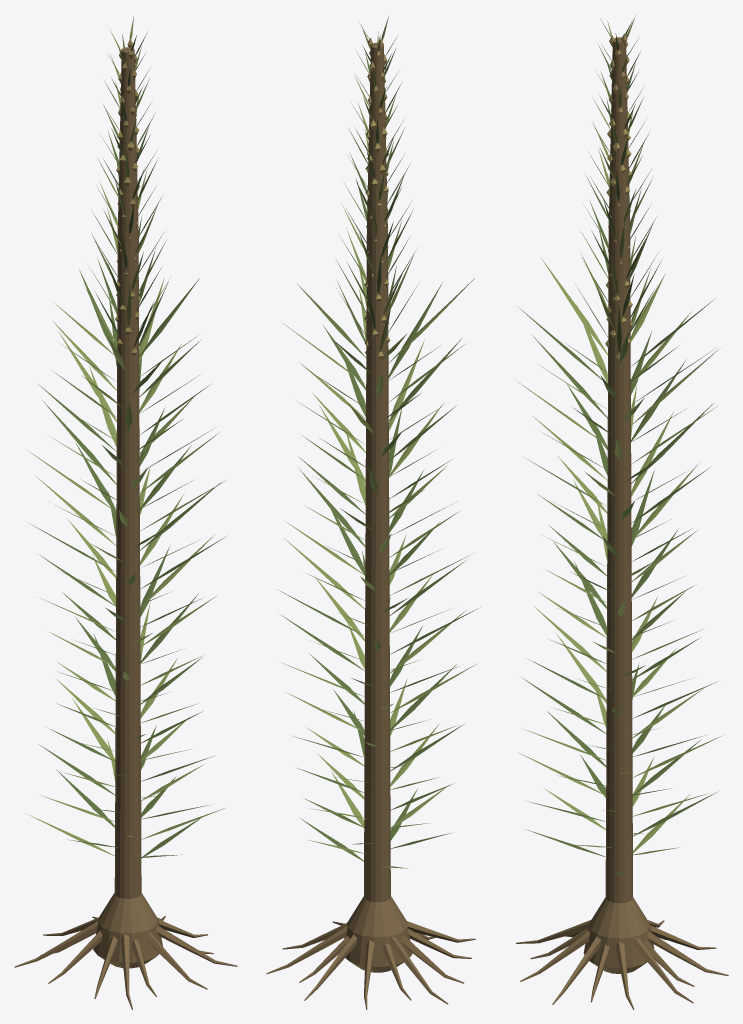
The model's file is chaloneria.glb.
3 renders of one model, left to right at view 1: azimuth 30°, elevation 25°; view 2: azimuth 150°, elevation 25°; view 3: azimuth 270°, elevation 25°, orthographic.
Visible parts, largest first — view 1: unbranched-cormose-plant-continuous-fertile-apex; view 2: unbranched-cormose-plant-continuous-fertile-apex; view 3: unbranched-cormose-plant-continuous-fertile-apex.
Part boxes in pixels (x1=…): unbranched-cormose-plant-continuous-fertile-apex: x1=14, y1=16, x2=237, y2=1009; unbranched-cormose-plant-continuous-fertile-apex: x1=266, y1=16, x2=480, y2=1009; unbranched-cormose-plant-continuous-fertile-apex: x1=516, y1=15, x2=728, y2=1009.
Bounding box in the file's own units: 0.4085 × 2 × 0.4107.
